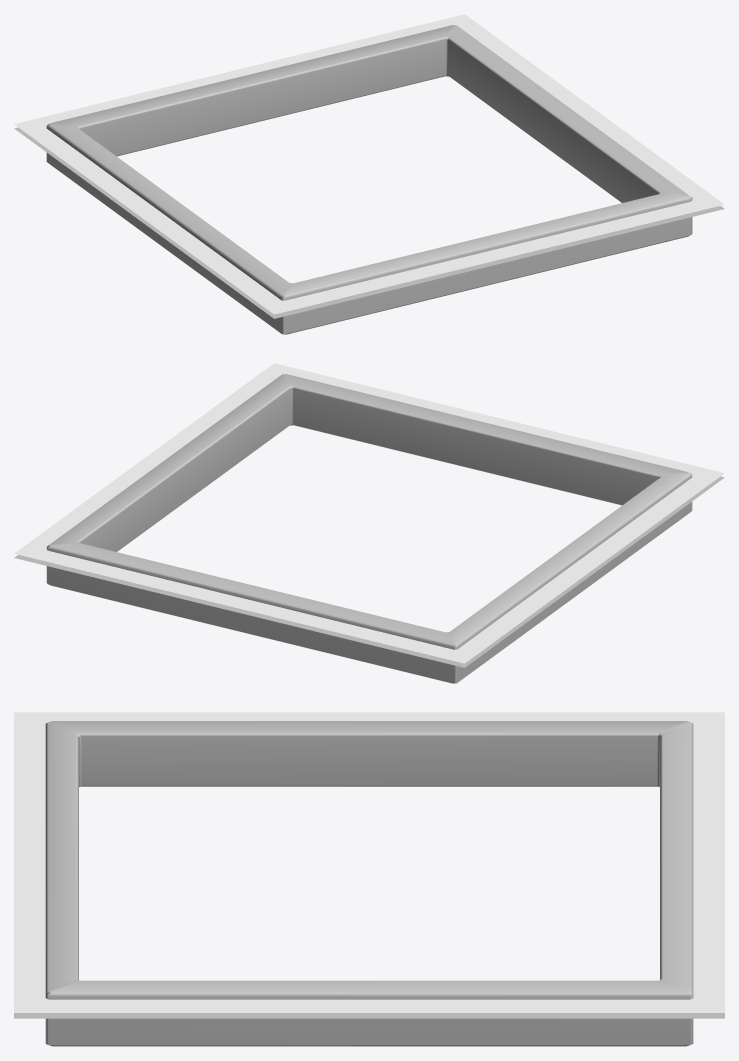
Rendered from SM_Room1_Floor_Hole1.fbx.
3 renders of one model, top to bottom at view 1: azimuth 30°, elevation 25°; view 2: azimuth 150°, elevation 25°; view 3: azimuth 270°, elevation 25°, orthographic. The views are drawn at different scales.
Visible parts, largest first — view 1: SM_Room1_Floor_Hole1_LOD0; view 2: SM_Room1_Floor_Hole1_LOD0; view 3: SM_Room1_Floor_Hole1_LOD0.
Part boxes in pixels (<box>): SM_Room1_Floor_Hole1_LOD0: <box>14,14,724,334</box>; SM_Room1_Floor_Hole1_LOD0: <box>14,363,724,683</box>; SM_Room1_Floor_Hole1_LOD0: <box>14,712,724,1046</box>.
Bounding box in the file's own units: 500 × 500 × 42.3.
